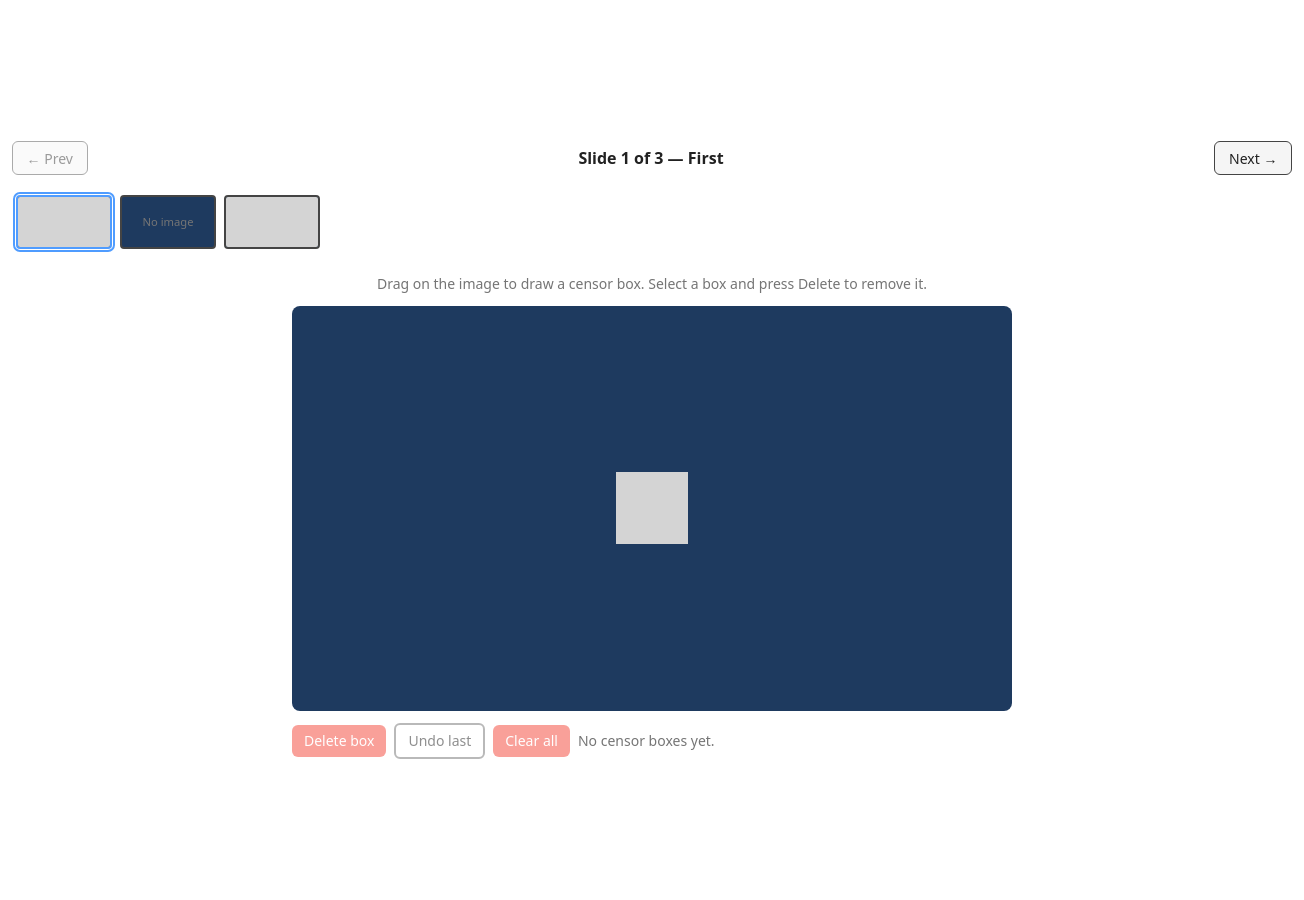
Test: CensorStep › marks an image-pending slide in the filmstrip and editor
# Navigating to it shows the editor's pending placeholder.
Click the button with aria-label "Slide 2: Second (image pending)" at (168, 222), box [120, 195, 216, 249]
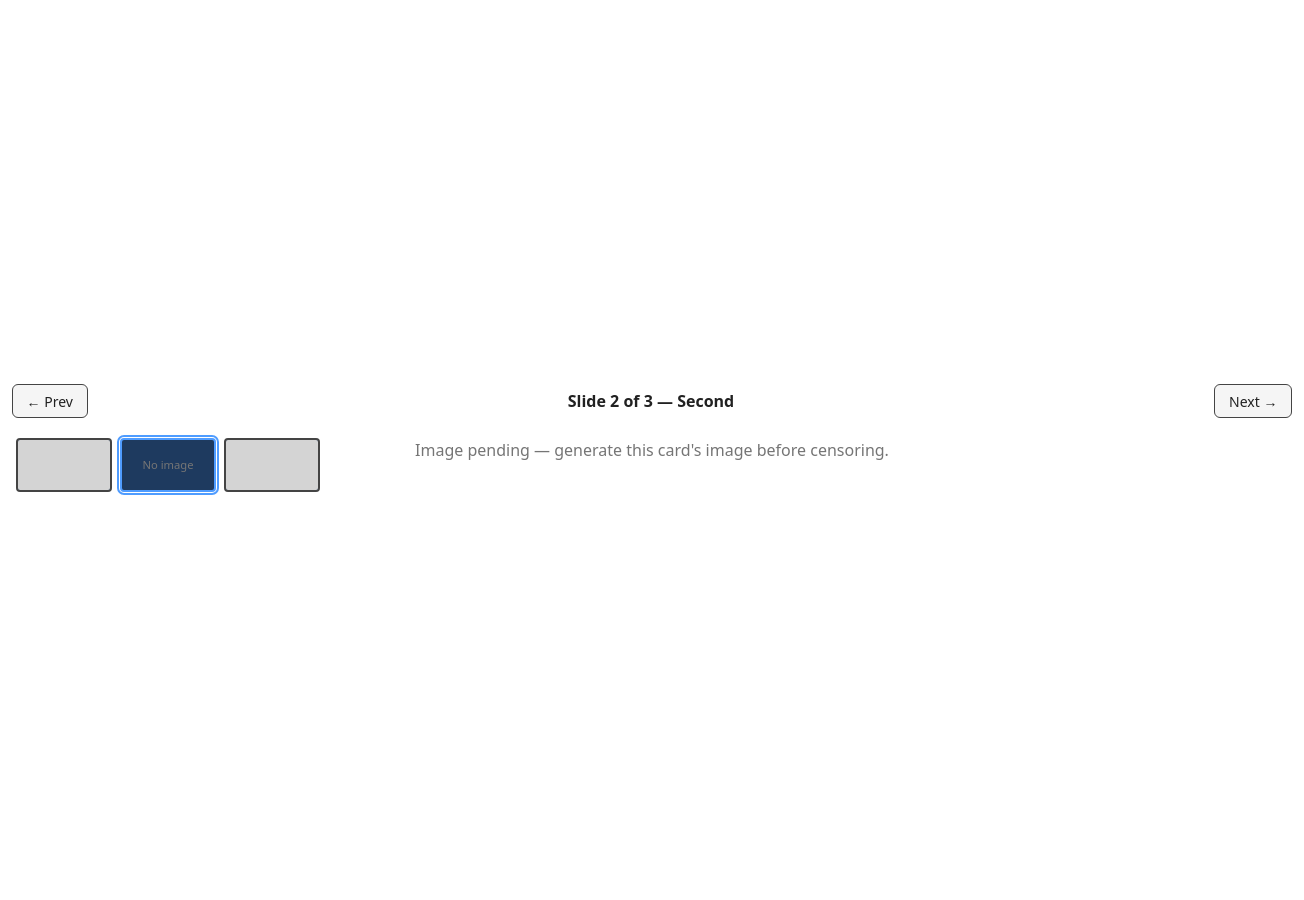
Check: the text "Image pending — generate this card's image before censoring." is shown, box [415, 439, 889, 461]
